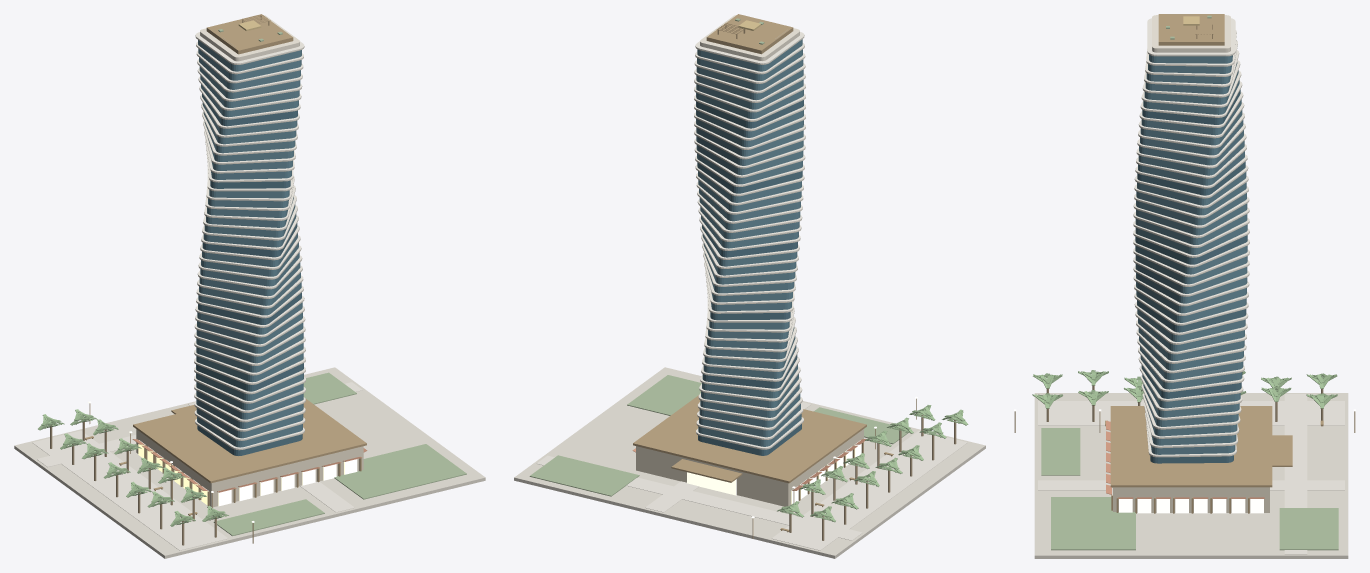
File: flagship-tower.glb
The picture shows the model from 3 angles, left to right: view 1: azimuth 30°, elevation 25°; view 2: azimuth 150°, elevation 25°; view 3: azimuth 270°, elevation 25°; orthographic projection. The views are drawn at different scales.
Visible parts, largest first — view 1: site, podband, prom, green0, pod, crown2, green2, green1, crown, glz5, glz3, glz7 (+41 smaller); view 2: site, podband, prom, pod, pathx, green1, crown2, green0, crown, green2, canopy, glz31 (+42 smaller); view 3: site, podband, green0, prom, green1, pod, crown2, green2, pathx, pathz, crown, glz20 (+44 smaller).
Part boxes in pixels (x1=…): site: x1=14, y1=367, x2=485, y2=558; podband: x1=133, y1=398, x2=366, y2=483; prom: x1=32, y1=430, x2=228, y2=550; green0: x1=334, y1=444, x2=466, y2=499; pod: x1=136, y1=429, x2=363, y2=507; crown2: x1=206, y1=15, x2=293, y2=54; green2: x1=213, y1=499, x2=324, y2=536; green1: x1=303, y1=372, x2=356, y2=404; crown: x1=200, y1=15, x2=299, y2=61; glz5: x1=196, y1=382, x2=303, y2=410; glz3: x1=196, y1=399, x2=303, y2=428; glz7: x1=196, y1=363, x2=303, y2=391; site: x1=514, y1=367, x2=985, y2=558; podband: x1=633, y1=395, x2=866, y2=483; prom: x1=771, y1=430, x2=967, y2=550; pod: x1=636, y1=429, x2=863, y2=506; pathx: x1=536, y1=455, x2=862, y2=540; green1: x1=529, y1=455, x2=639, y2=496; crown2: x1=706, y1=14, x2=793, y2=54; green0: x1=627, y1=375, x2=701, y2=415; crown: x1=700, y1=15, x2=799, y2=60; green2: x1=814, y1=407, x2=911, y2=444; canopy: x1=671, y1=459, x2=742, y2=482; glz31: x1=696, y1=136, x2=803, y2=165; site: x1=1034, y1=393, x2=1348, y2=558; podband: x1=1110, y1=406, x2=1272, y2=487; green0: x1=1051, y1=497, x2=1135, y2=550; prom: x1=1038, y1=401, x2=1344, y2=425; green1: x1=1279, y1=508, x2=1338, y2=550; pod: x1=1113, y1=487, x2=1269, y2=512; crown2: x1=1158, y1=14, x2=1224, y2=45; green2: x1=1041, y1=428, x2=1080, y2=475; pathx: x1=1284, y1=394, x2=1307, y2=554; pathz: x1=1038, y1=480, x2=1344, y2=490; crown: x1=1152, y1=15, x2=1230, y2=52; glz20: x1=1135, y1=245, x2=1247, y2=274.
Bounding box in the file's own units: 118 × 155 × 105.
